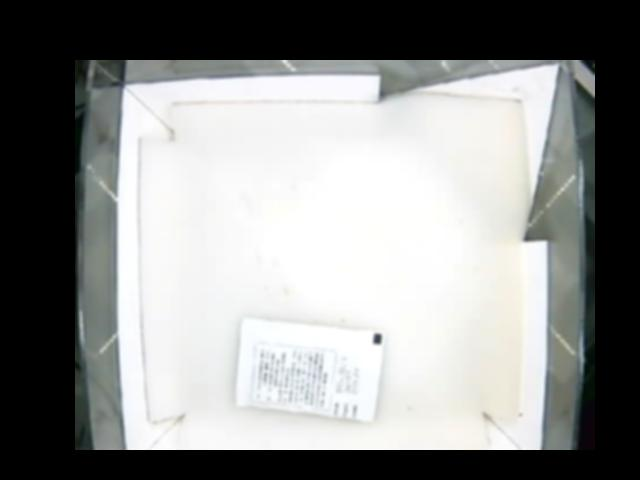Medicine: (226, 315, 387, 420)
